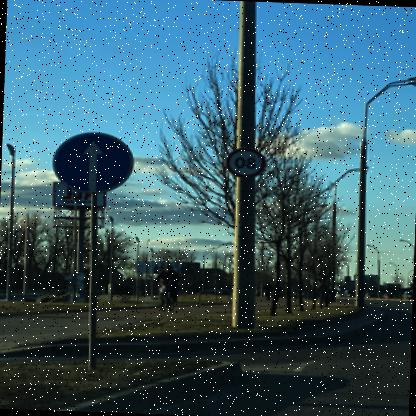speedlimit: (228, 147, 268, 177)
